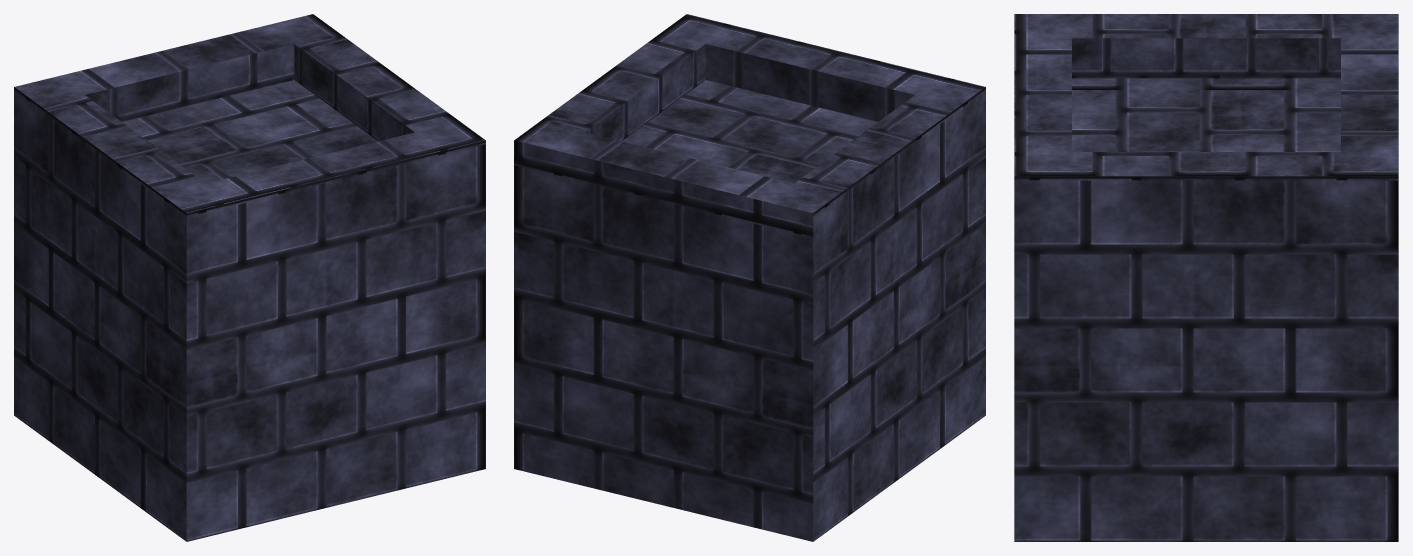
File: wall.obj
The picture shows the model from 3 angles, left to right: view 1: azimuth 30°, elevation 25°; view 2: azimuth 150°, elevation 25°; view 3: azimuth 270°, elevation 25°; orthographic projection. The views are drawn at different scales.
Parts seen in each view (by area): view 1: Cube; view 2: Cube; view 3: Cube.
Boxes of the visible parts, x1,y1,x2,y2 form: Cube: [14, 14, 485, 541]; Cube: [514, 14, 985, 541]; Cube: [1014, 14, 1398, 541].
Bounding box in the file's own units: 2 × 2.1 × 2.
